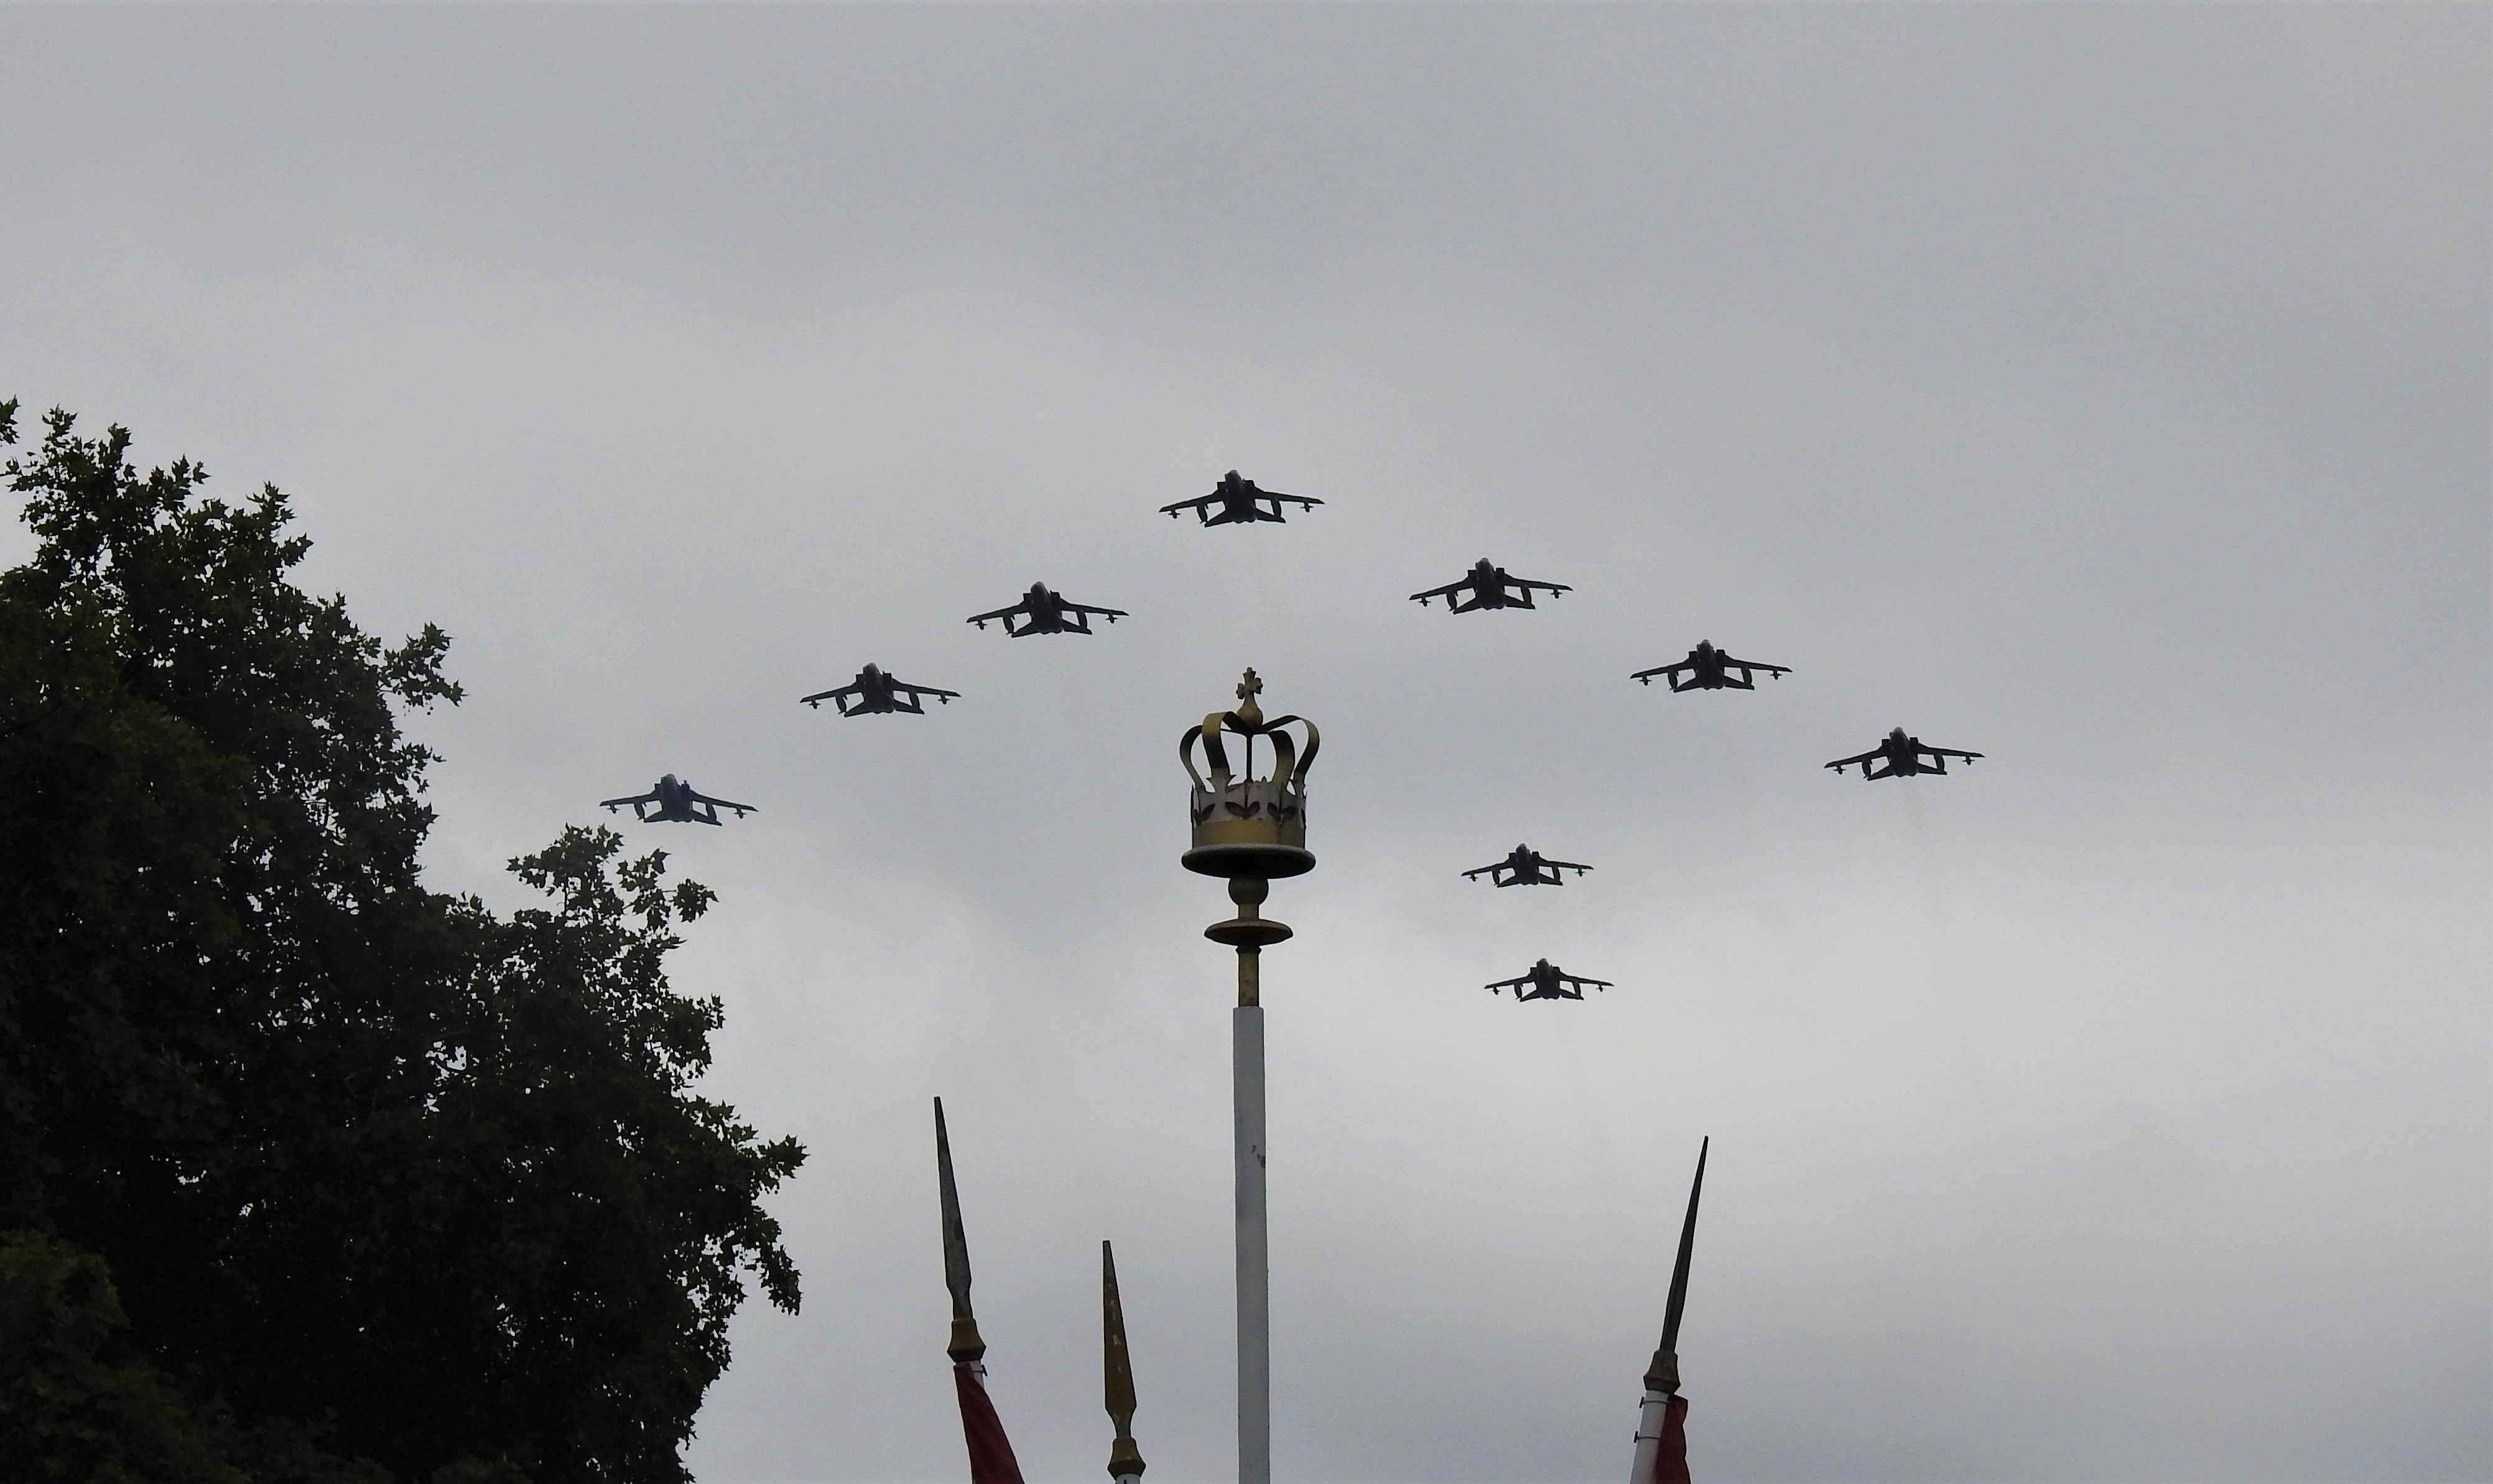Tornado: (1159, 470, 1325, 528), (1408, 556, 1574, 615), (966, 581, 1129, 638), (1823, 726, 1986, 783), (1629, 640, 1793, 694), (799, 663, 961, 717), (599, 774, 758, 827), (1461, 843, 1594, 889), (1484, 958, 1615, 1003)
